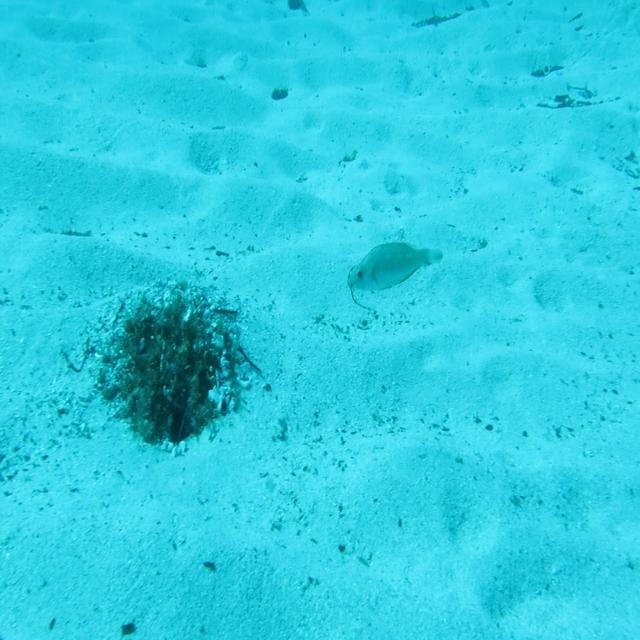AM: (347, 239, 447, 298)
nest: (95, 272, 255, 459)
vegetation: (347, 263, 372, 311)
